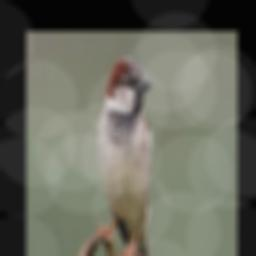Sparrow: (96, 55, 153, 256)
